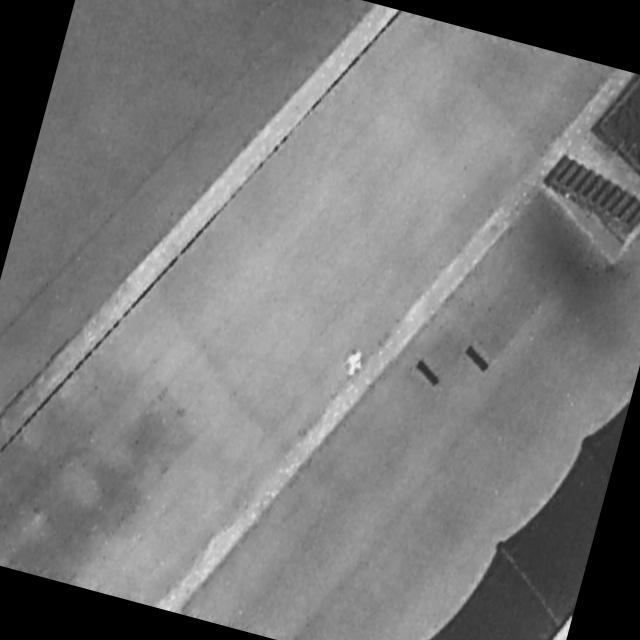person: (341, 344, 370, 381)
